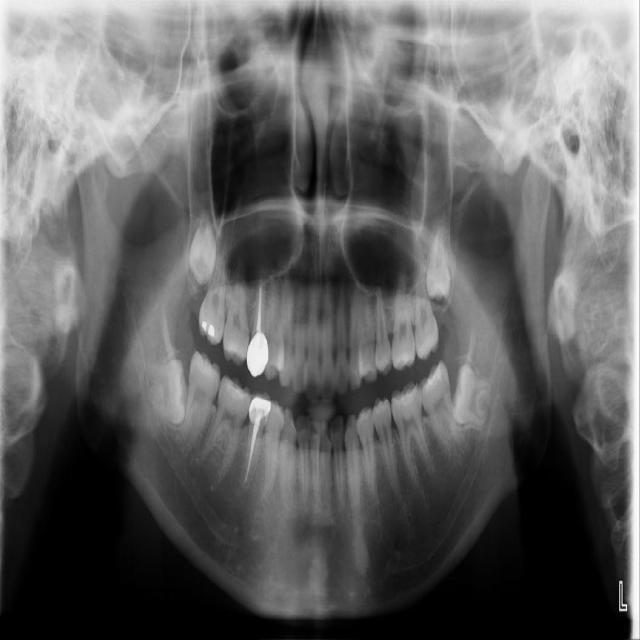Crown: (246, 332, 269, 379), (249, 391, 272, 430)
Filling: (199, 317, 222, 339)
Root Canal Treatment: (243, 432, 254, 483), (254, 287, 262, 332)
impacted tooth: (136, 360, 190, 422), (452, 363, 494, 425)
